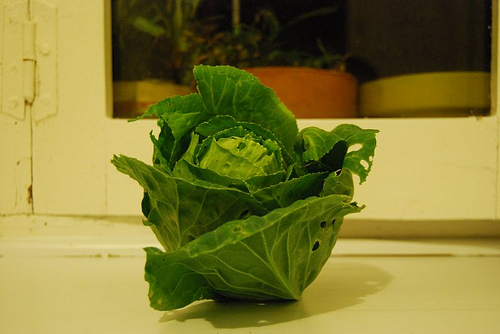cabbage: (110, 64, 380, 315)
